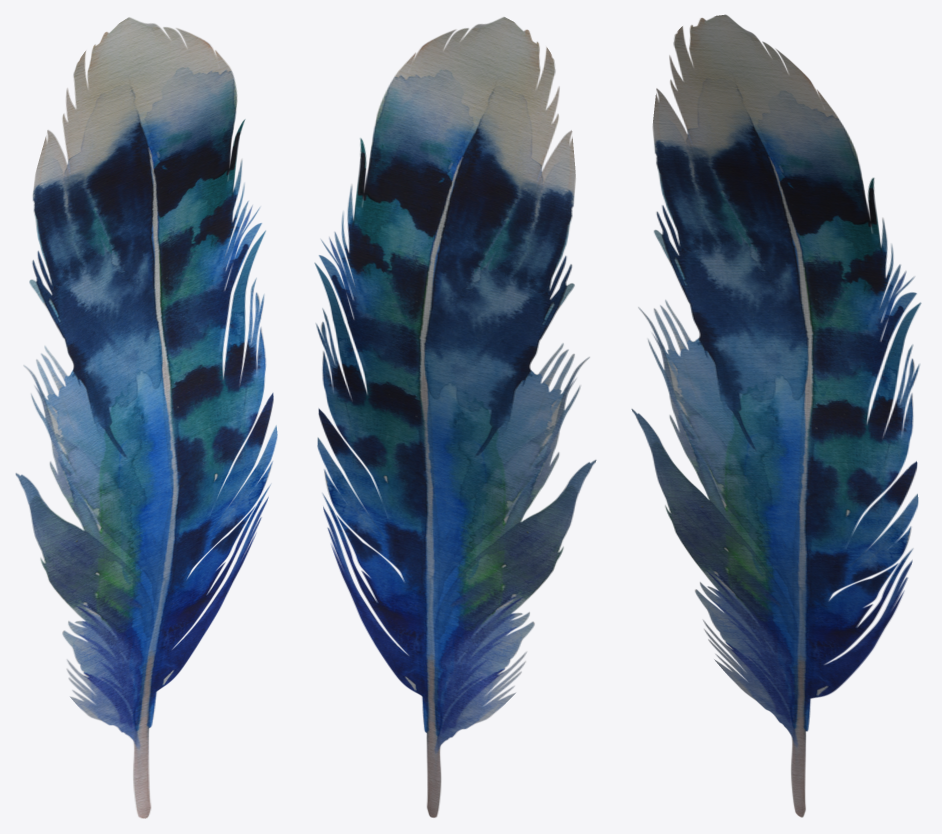
File: feather.glb
The picture shows the model from 3 angles, left to right: view 1: azimuth 30°, elevation 25°; view 2: azimuth 150°, elevation 25°; view 3: azimuth 330°, elevation 25°; orthographic projection. The views are drawn at different scales.
Parts seen in each view (by area): view 1: fairy feather_2; view 2: fairy feather_2; view 3: fairy feather_2.
Part boxes in pixels (x1,y1,x2,y2): fairy feather_2: (15, 17, 277, 818); fairy feather_2: (314, 17, 596, 817); fairy feather_2: (631, 14, 921, 817).
Bounding box in the file's own units: 0.3532 × 1 × 0.0734.
Materials: 1 (1 with a texture image).
